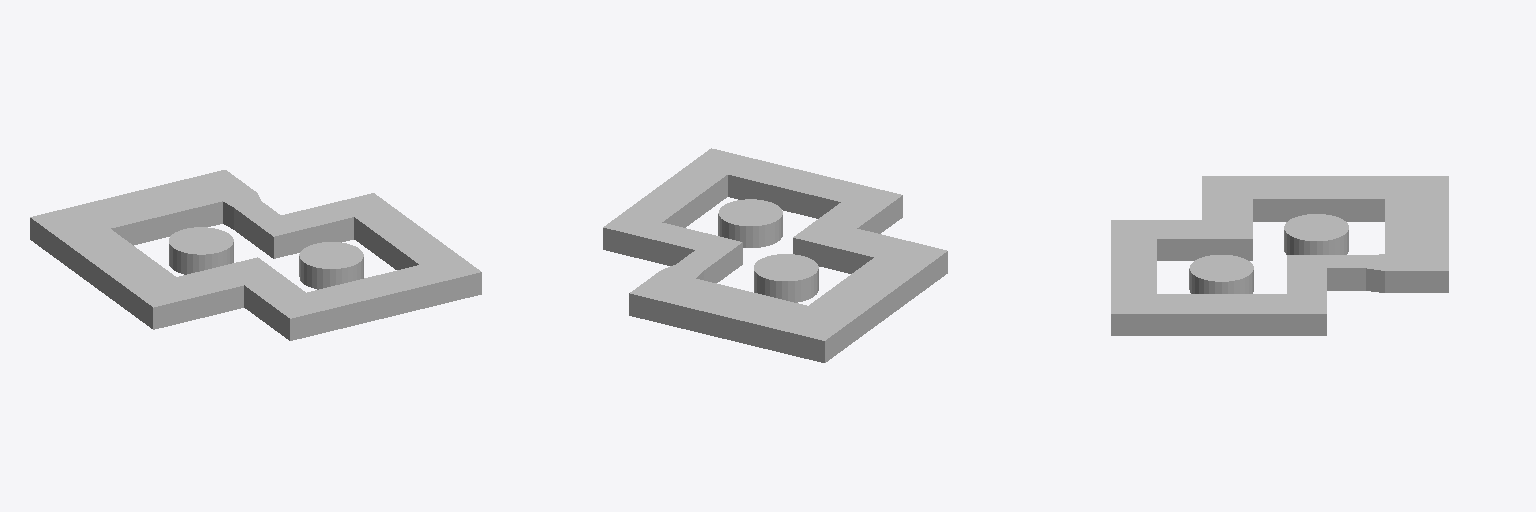
The model's file is sand_track_bounds.obj.
3 renders of one model, left to right at view 1: azimuth 30°, elevation 25°; view 2: azimuth 150°, elevation 25°; view 3: azimuth 270°, elevation 25°, orthographic.
Bounding box in the file's own units: 10.22 × 0.7846 × 10.59.